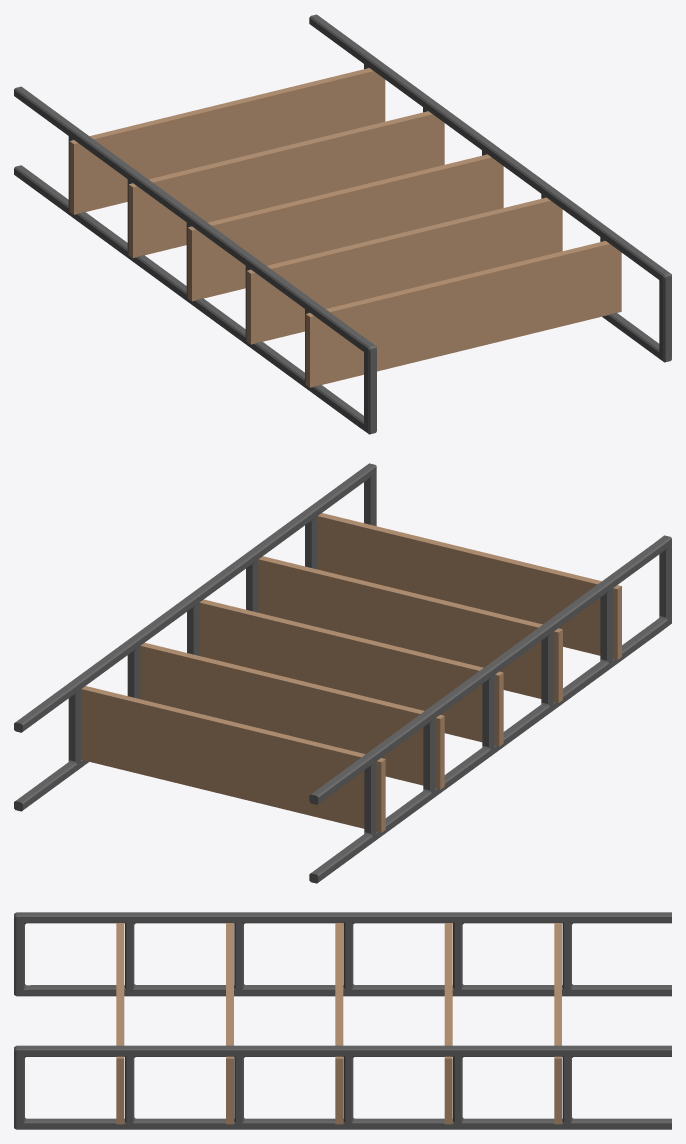
File: Shelves.obj
The picture shows the model from 3 angles, top to bottom: view 1: azimuth 30°, elevation 25°; view 2: azimuth 150°, elevation 25°; view 3: azimuth 270°, elevation 25°; orthographic projection. The views are drawn at different scales.
Parts seen in each view (by area): view 1: Shelves.003; view 2: Shelves.003; view 3: Shelves.003.
Part boxes in pixels (x1,y1,x2,y2): Shelves.003: (14,14,671,434); Shelves.003: (14,463,671,883); Shelves.003: (14,912,671,1129).
Size of the model in its own units: 0.9732 by 0.2617 by 1.92.
